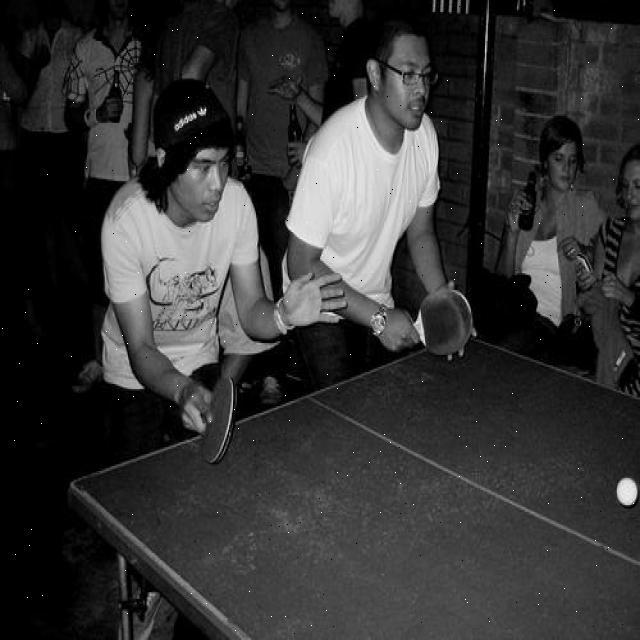ping-pong-ball: (617, 477, 638, 505)
